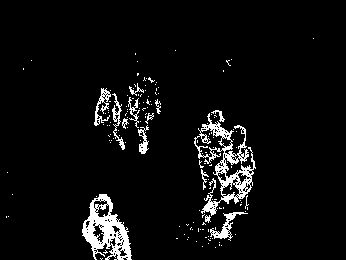person: (217, 124, 254, 239), (194, 110, 234, 199), (81, 194, 132, 260), (125, 75, 161, 156), (95, 88, 124, 150)
